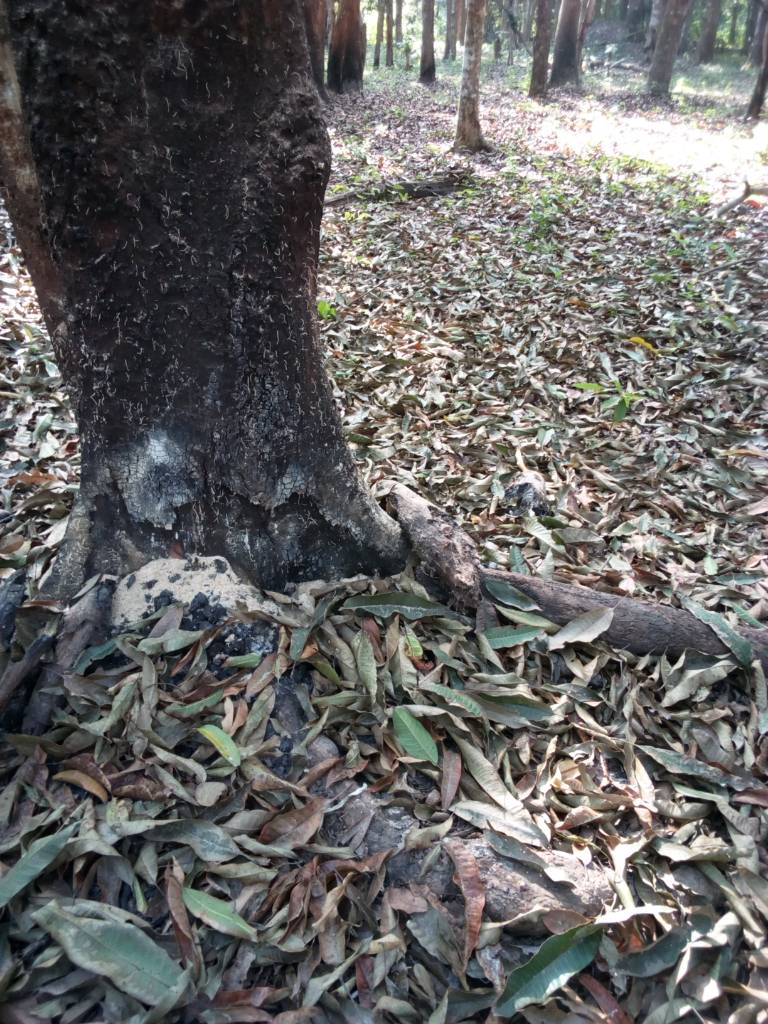Gommose: (36, 13, 374, 585)
